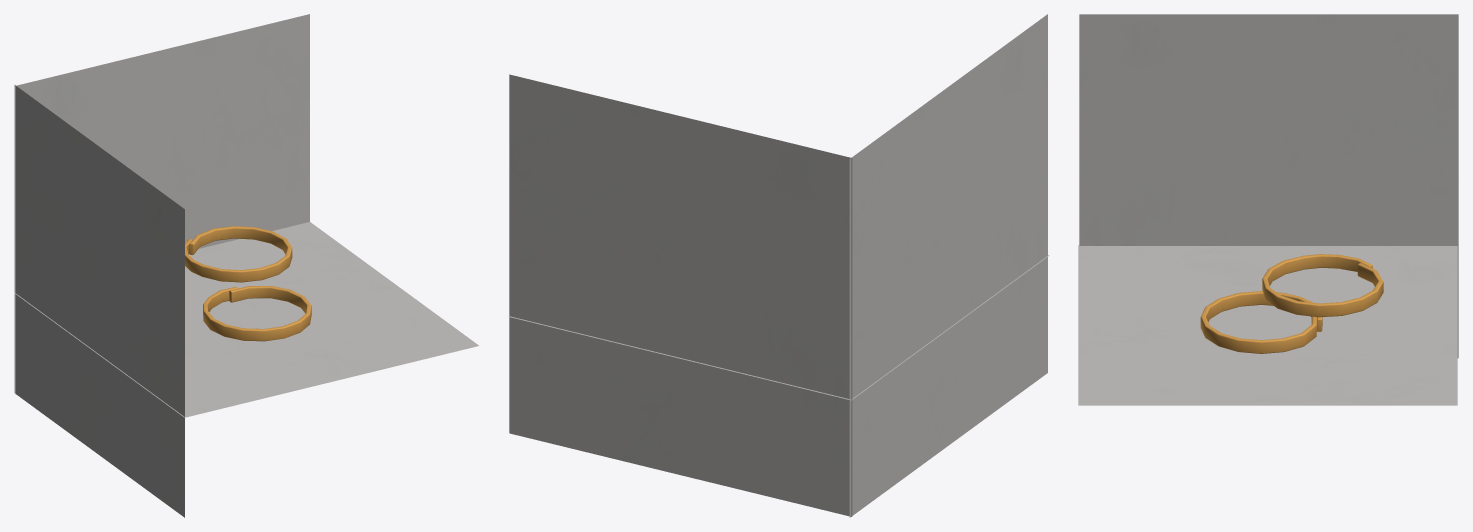
Rendered from bangle_bracelet.glb.
The picture shows the model from 3 angles, left to right: view 1: azimuth 30°, elevation 25°; view 2: azimuth 150°, elevation 25°; view 3: azimuth 270°, elevation 25°; orthographic projection. The views are drawn at different scales.
Parts seen in each view (by area): view 1: Plane.002_4, Plane.001_3, Plane_2, ring_0, ring.001_1; view 2: Plane.001_3, Plane.002_4, Plane_2; view 3: Plane.002_4, Plane_2, ring.001_1, ring_0.
Boxes of the visible parts, x1=… form: Plane.002_4: x1=14, y1=85, x2=184, y2=517; Plane.001_3: x1=15, y1=14, x2=309, y2=394; Plane_2: x1=14, y1=222, x2=478, y2=417; ring_0: x1=203, y1=286, x2=311, y2=341; ring.001_1: x1=185, y1=226, x2=292, y2=282; Plane.001_3: x1=509, y1=74, x2=852, y2=516; Plane.002_4: x1=849, y1=14, x2=1047, y2=517; Plane_2: x1=508, y1=255, x2=1049, y2=400; Plane.002_4: x1=1079, y1=14, x2=1458, y2=358; Plane_2: x1=1078, y1=245, x2=1457, y2=405; ring.001_1: x1=1262, y1=254, x2=1383, y2=317; ring_0: x1=1200, y1=291, x2=1322, y2=353.
Size of the model in its own units: 10.4 by 10.4 by 10.43.
3 materials, 3 textured.
